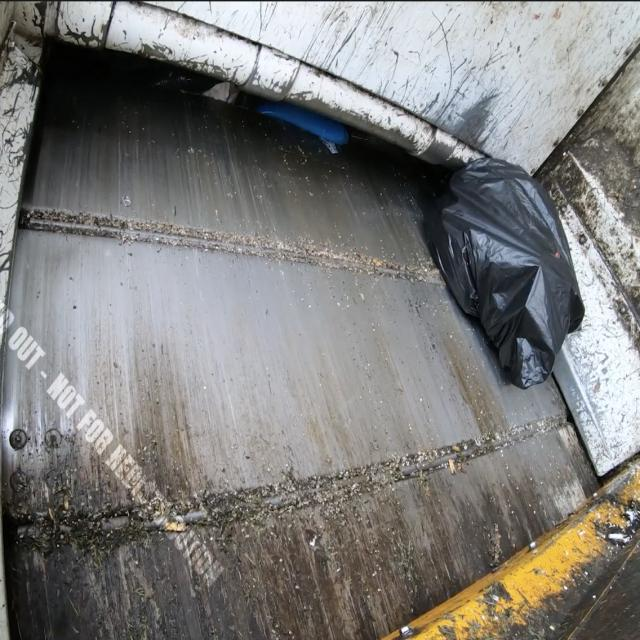bag: (417, 146, 597, 378)
